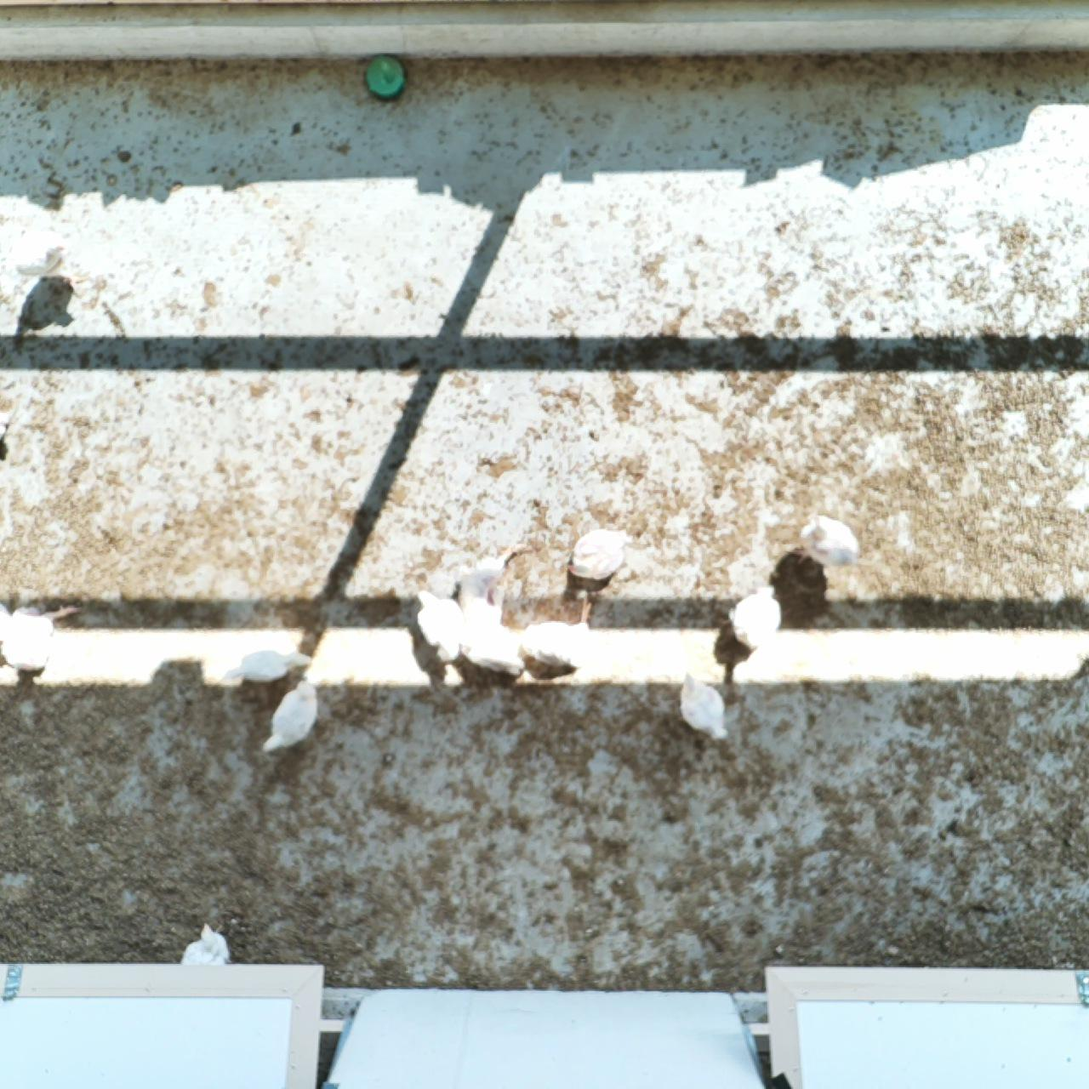chicken: (457, 540, 534, 629), (0, 597, 79, 674), (522, 600, 597, 672), (409, 586, 473, 669), (724, 578, 789, 656), (260, 676, 322, 757), (459, 623, 533, 680), (794, 513, 864, 571), (220, 644, 318, 685), (678, 671, 733, 744), (568, 526, 634, 583), (9, 227, 69, 281), (178, 920, 237, 972)
